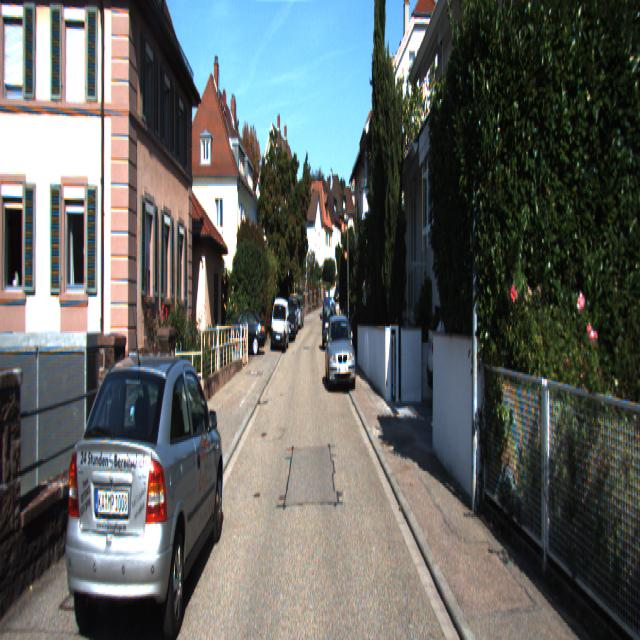Car: (60, 342, 229, 638), (326, 313, 356, 395), (270, 298, 291, 354), (322, 296, 337, 351)
